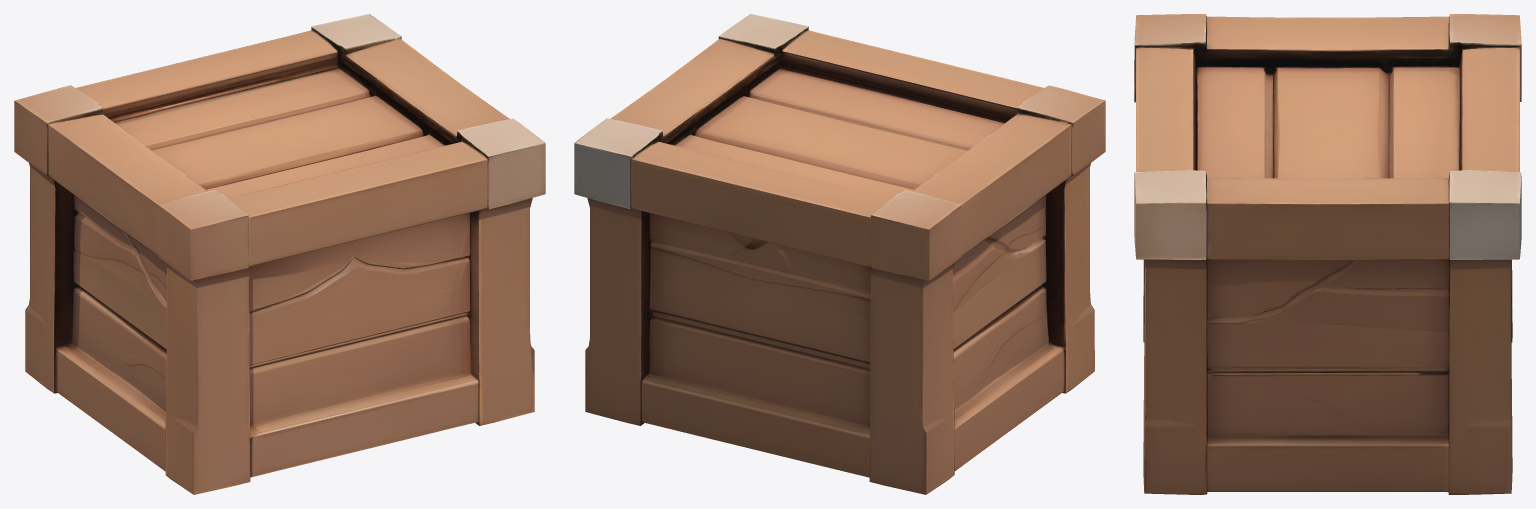
File: crate.glb
3 renders of one model, left to right at view 1: azimuth 30°, elevation 25°; view 2: azimuth 150°, elevation 25°; view 3: azimuth 270°, elevation 25°, orthographic. The views are drawn at different scales.
Visible parts, largest first — view 1: model; view 2: model; view 3: model.
Part boxes in pixels (left/top/right/bottom): model: left=14, top=14, right=545, bottom=494; model: left=574, top=14, right=1105, bottom=494; model: left=1134, top=14, right=1521, bottom=494.
Size of the model in its own units: 1.9 by 1.41 by 1.65.
1 material, 1 textured.
